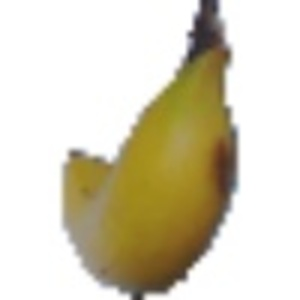banana: (49, 3, 239, 295)
